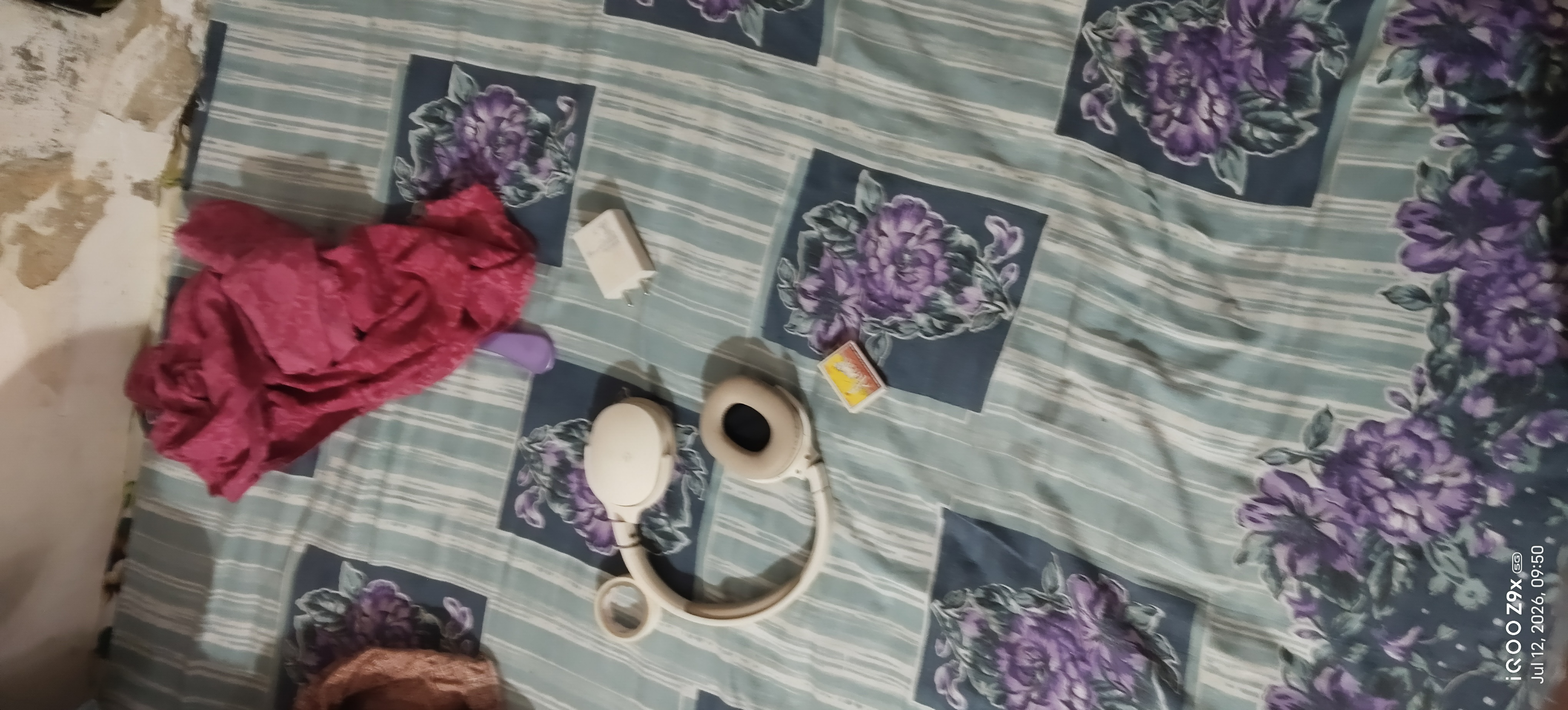charger: (554, 199, 694, 324)
matchbox: (803, 322, 912, 436)
tape_roll: (573, 566, 666, 651)
